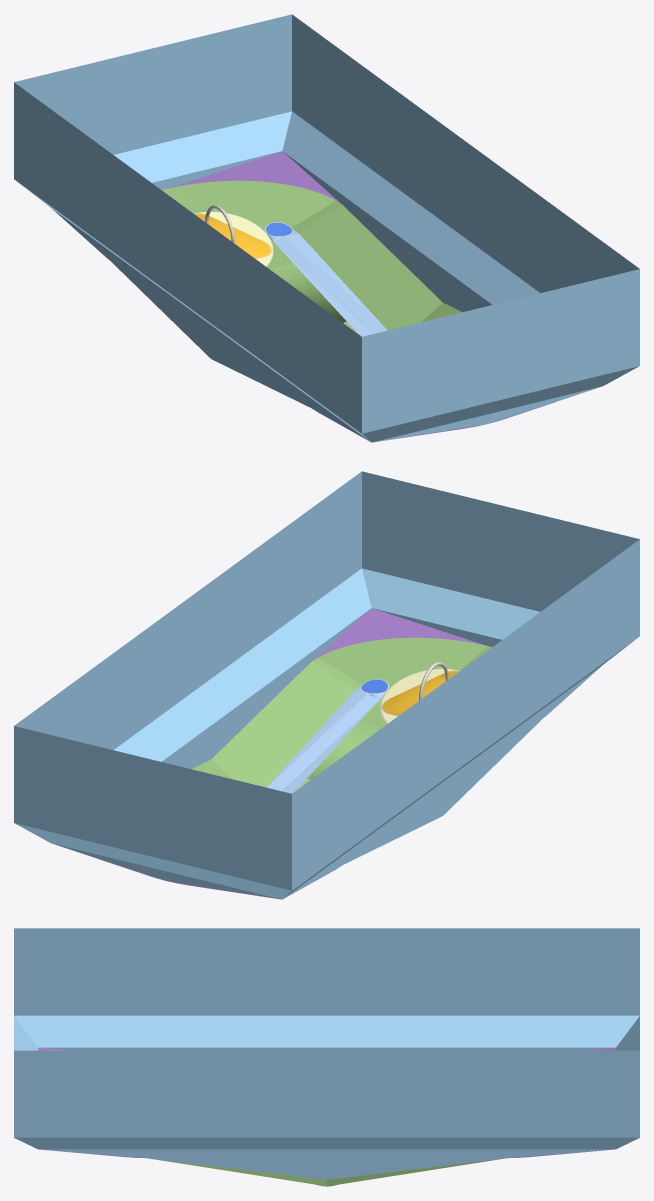
Rendered from arena.glb.
3 renders of one model, top to bottom at view 1: azimuth 30°, elevation 25°; view 2: azimuth 150°, elevation 25°; view 3: azimuth 270°, elevation 25°, orthographic. The views are drawn at different scales.
Parts seen in each view (by area): view 1: Upper Boundaries.001, Outer Field Wall NE, Outer Field Corner NE, Stream NW, Upper Side Wall W.001, Lower Side Wall W.001, Corner NE, Lower Side Wall E.001, Upper Side Wall E.001, Inner Field NE, Back Boundary S.001, Key Bump N (+2 smaller); view 2: Upper Boundaries.001, Outer Field Wall SE, Outer Field Corner SE, Stream SW, Upper Side Wall W.001, Lower Side Wall W.001, Corner SE, Lower Side Wall E.001, Upper Side Wall E.001, Inner Field SE, Back Boundary N.001, Key Bump S (+2 smaller); view 3: Upper Boundaries.001, Upper Side Wall E.001, Lower Side Wall E.001, Upper Side Wall W.001, Outer Field Wall NE, Outer Field Wall SE.
Boxes of the visible parts, bbox=[...] form: Upper Boundaries.001: bbox=[14, 14, 639, 442]; Outer Field Wall NE: bbox=[299, 205, 442, 330]; Outer Field Corner NE: bbox=[167, 180, 342, 232]; Stream NW: bbox=[267, 228, 387, 336]; Upper Side Wall W.001: bbox=[52, 209, 369, 441]; Lower Side Wall W.001: bbox=[112, 262, 310, 407]; Corner NE: bbox=[168, 151, 340, 203]; Lower Side Wall E.001: bbox=[344, 206, 482, 311]; Upper Side Wall E.001: bbox=[284, 152, 491, 307]; Inner Field NE: bbox=[266, 236, 359, 334]; Back Boundary S.001: bbox=[374, 387, 599, 442]; Key Bump N: bbox=[194, 213, 272, 259]; Upper Boundaries.001: bbox=[14, 471, 639, 899]; Outer Field Wall SE: bbox=[211, 662, 354, 787]; Outer Field Corner SE: bbox=[311, 637, 486, 689]; Stream SW: bbox=[266, 685, 386, 793]; Upper Side Wall W.001: bbox=[284, 666, 601, 898]; Lower Side Wall W.001: bbox=[343, 719, 541, 864]; Corner SE: bbox=[313, 608, 485, 660]; Lower Side Wall E.001: bbox=[171, 663, 309, 768]; Upper Side Wall E.001: bbox=[162, 609, 369, 764]; Inner Field SE: bbox=[294, 693, 387, 791]; Back Boundary N.001: bbox=[54, 844, 279, 899]; Key Bump S: bbox=[381, 670, 459, 716]; Upper Boundaries.001: bbox=[14, 928, 639, 1149]; Upper Side Wall E.001: bbox=[38, 1149, 615, 1158]; Lower Side Wall E.001: bbox=[149, 1158, 504, 1179]; Upper Side Wall W.001: bbox=[39, 1047, 614, 1050]; Outer Field Wall NE: bbox=[327, 1158, 505, 1186]; Outer Field Wall SE: bbox=[148, 1158, 326, 1186].
Size of the model in its own units: 60 by 38 by 130.
